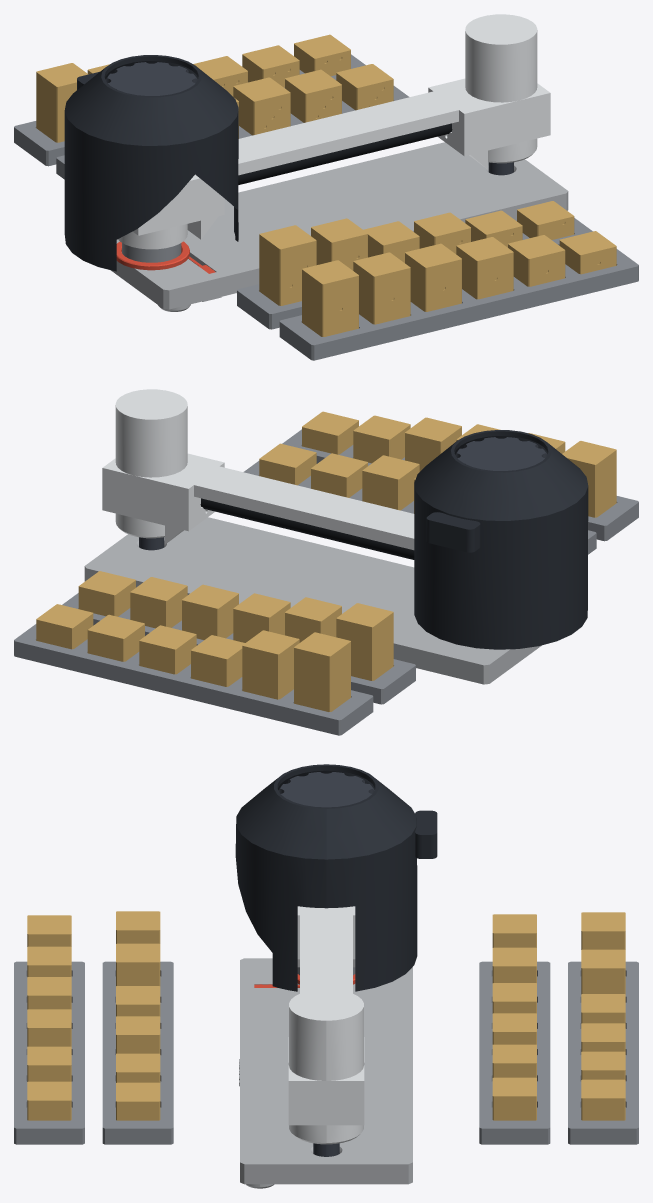
The model's file is assembled.glb.
3 views of the same model, one above another, from view 1: azimuth 30°, elevation 25°; view 2: azimuth 150°, elevation 25°; view 3: azimuth 270°, elevation 25° (orthographic). The views are drawn at different scales.
Visible parts, largest first — view 1: gantry_base, knob_hood, yoke, rail_01, piece_a1, piece_b1, piece_a2, piece_a3, piece_a4, piece_c4, piece_d1, column_screw (+18 smaller); view 2: knob_hood, gantry_base, yoke, rail_04, piece_d1, piece_c1, piece_d2, piece_c4, piece_a1, piece_b4, column_screw, piece_c5 (+16 smaller); view 3: knob_hood, gantry_base, yoke, rail_02, rail_03, rail_01, rail_04, column_screw, piece_d2, piece_c6, piece_b2, piece_d6 (+20 smaller).
Part boxes in pixels (bbox=[...]): gantry_base: bbox=[111, 142, 568, 311]; knob_hood: bbox=[64, 55, 238, 271]; yoke: bbox=[118, 14, 550, 249]; rail_01: bbox=[279, 249, 638, 360]; piece_a1: bbox=[302, 260, 358, 336]; piece_b1: bbox=[259, 225, 316, 305]; piece_a2: bbox=[353, 252, 410, 324]; piece_a3: bbox=[405, 243, 461, 311]; piece_a4: bbox=[456, 237, 513, 299]; piece_c4: bbox=[233, 77, 290, 135]; piece_d1: bbox=[36, 63, 88, 142]; column_screw: bbox=[105, 62, 197, 95]; knob_hood: bbox=[414, 430, 588, 649]; gantry_base: bbox=[84, 517, 541, 684]; yoke: bbox=[102, 389, 414, 550]; rail_04: bbox=[14, 624, 373, 735]; piece_d1: bbox=[294, 632, 350, 711]; piece_c1: bbox=[336, 603, 393, 680]; piece_d2: bbox=[242, 630, 299, 699]; piece_c4: bbox=[182, 584, 238, 639]; piece_a1: bbox=[562, 441, 616, 517]; piece_b4: bbox=[362, 455, 419, 510]; column_screw: bbox=[455, 437, 547, 470]; piece_c5: bbox=[130, 577, 187, 628]; knob_hood: bbox=[235, 764, 437, 991]; gantry_base: bbox=[239, 958, 412, 1188]; yoke: bbox=[288, 906, 364, 1144]; rail_02: bbox=[102, 961, 173, 1144]; rail_03: bbox=[479, 961, 550, 1144]; rail_01: bbox=[14, 961, 84, 1144]; rail_04: bbox=[568, 961, 638, 1144]; column_screw: bbox=[278, 772, 374, 807]; piece_d2: bbox=[581, 949, 625, 994]; piece_c6: bbox=[492, 1077, 536, 1120]; piece_b2: bbox=[116, 943, 160, 985]; piece_d6: bbox=[581, 1079, 625, 1120].
Size of the model in its own units: 0.248 by 0.1059 by 0.282.
